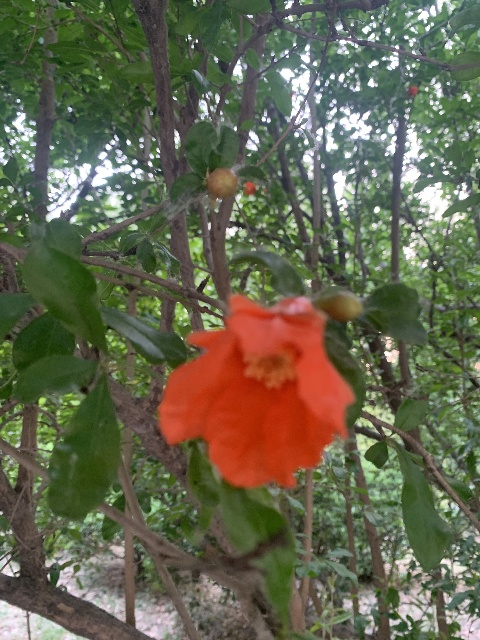bud: (318, 293, 361, 322), (206, 167, 238, 199)
flower: (157, 293, 354, 490), (244, 181, 256, 195), (407, 85, 417, 96)
